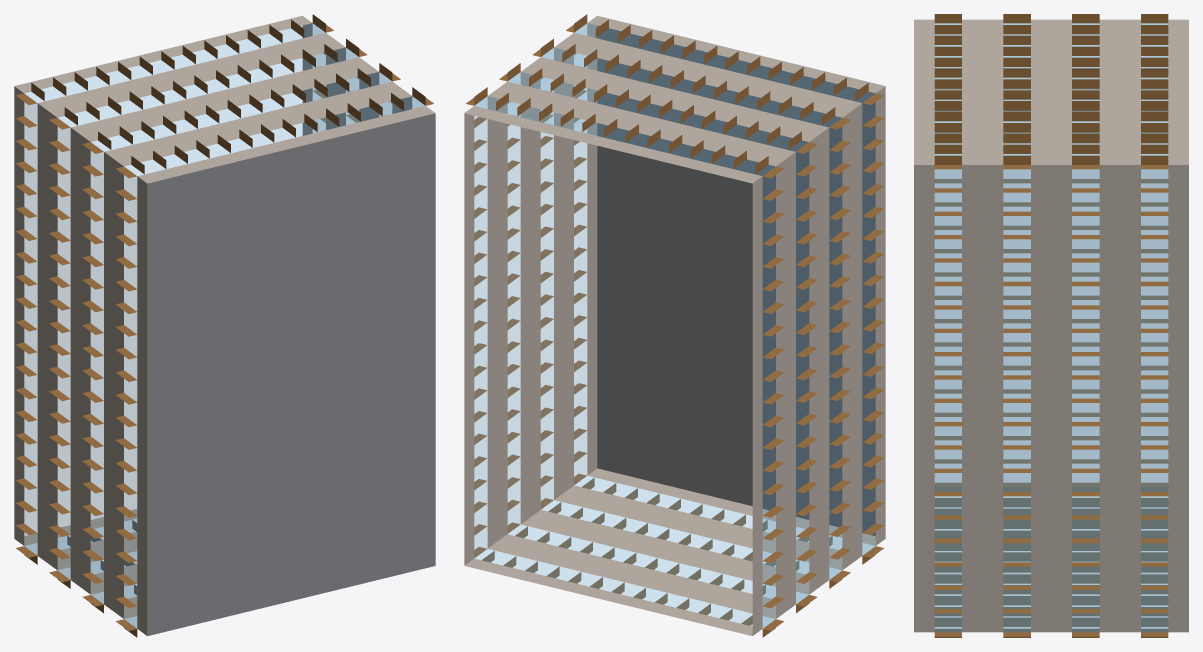
3 views of the same model, side by side, from view 1: azimuth 30°, elevation 25°; view 2: azimuth 150°, elevation 25°; view 3: azimuth 270°, elevation 25° (orthographic). The views are drawn at different scales.
Visible parts, largest first — view 1: Atap_Beton, Dinding_Bata, Kaca_Jendela, Peneduh_Sirip; view 2: Dinding_Bata, Atap_Beton, Kaca_Jendela, Peneduh_Sirip; view 3: Dinding_Bata, Peneduh_Sirip, Kaca_Jendela.
Boxes of the visible parts, x1,y1,x2,y2 form: Atap_Beton: (147, 113, 435, 635); Dinding_Bata: (14, 16, 435, 635); Kaca_Jendela: (24, 23, 425, 628); Peneduh_Sirip: (16, 14, 433, 637); Dinding_Bata: (464, 16, 885, 635); Atap_Beton: (597, 25, 875, 536); Kaca_Jendela: (474, 23, 875, 628); Peneduh_Sirip: (466, 14, 883, 637); Dinding_Bata: (914, 19, 1188, 632); Peneduh_Sirip: (934, 14, 1168, 637); Kaca_Jendela: (934, 23, 1168, 632).
Bounding box in the file's own units: 21.2 × 31.2 × 16.
